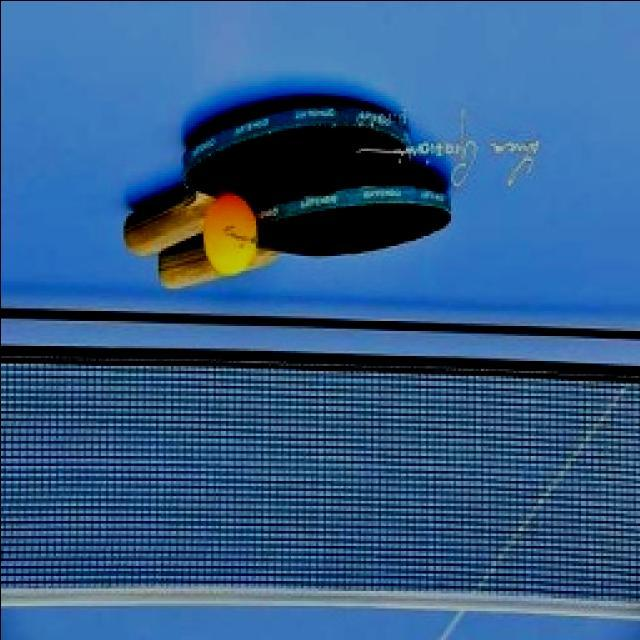oball: (202, 191, 255, 275)
